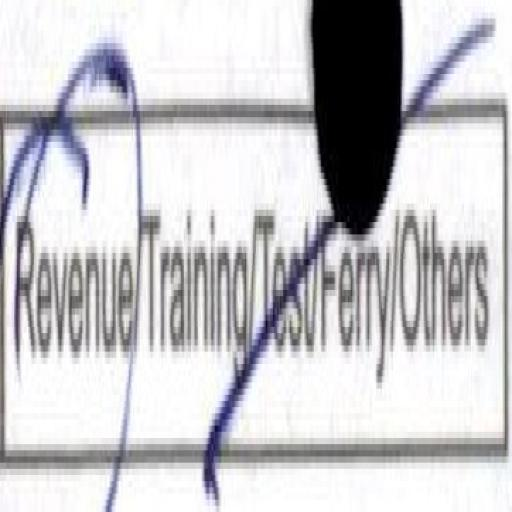check: (2, 111, 136, 501)
